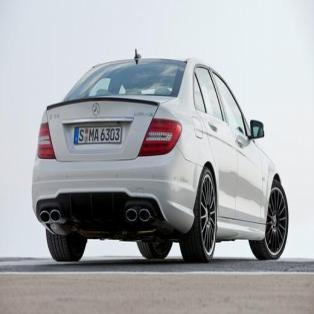Auto: (30, 43, 290, 264)
